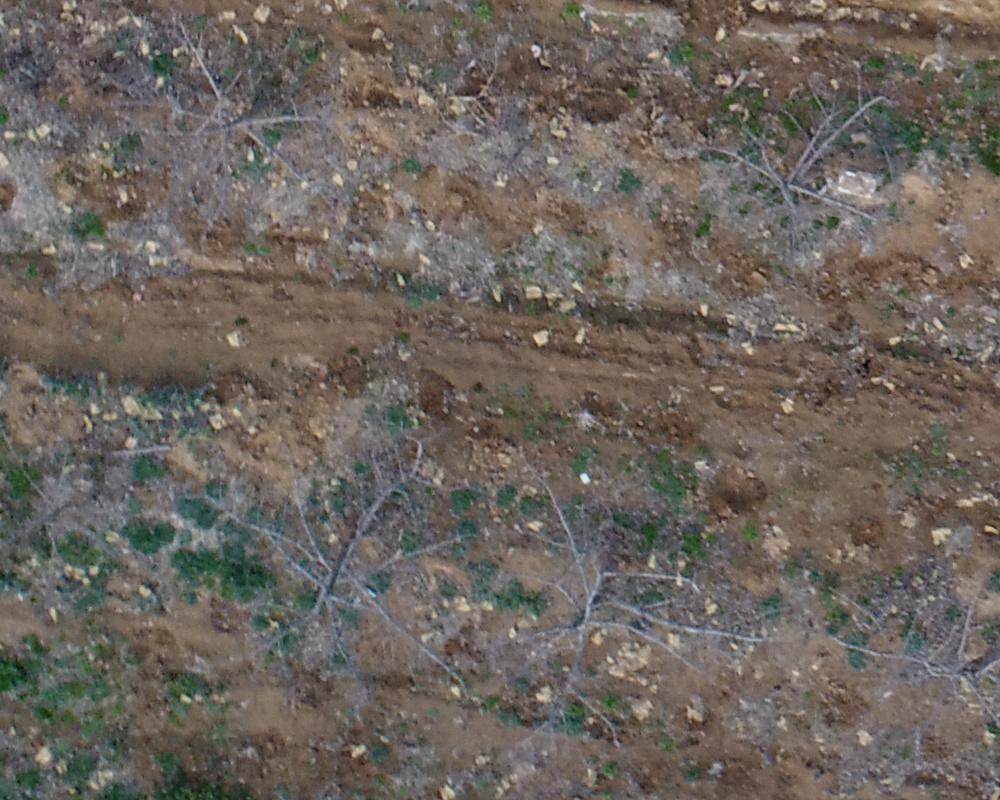apple: (487, 467, 791, 773), (191, 419, 481, 701), (121, 13, 346, 202), (682, 69, 904, 251), (841, 555, 990, 751)
